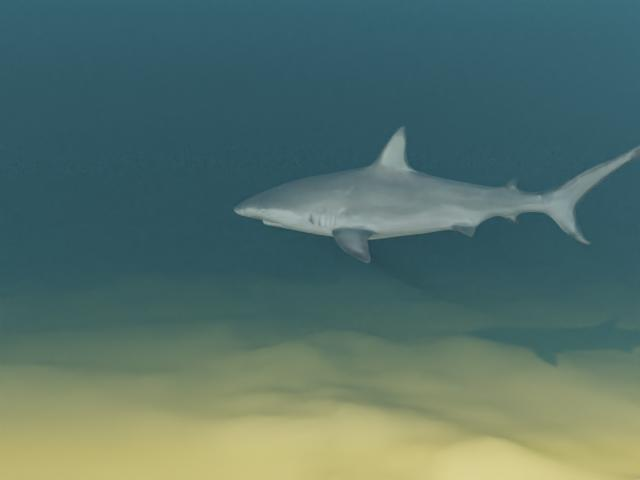Carribean Shark.001: (233, 125, 640, 262)
